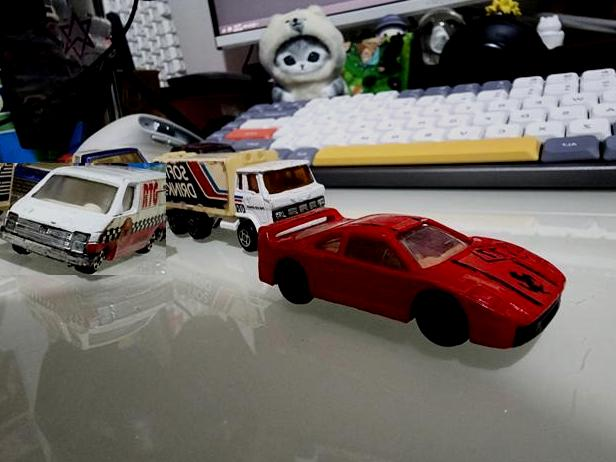toy-car: (256, 205, 567, 351), (0, 163, 166, 275), (150, 149, 326, 253), (73, 145, 152, 197)
